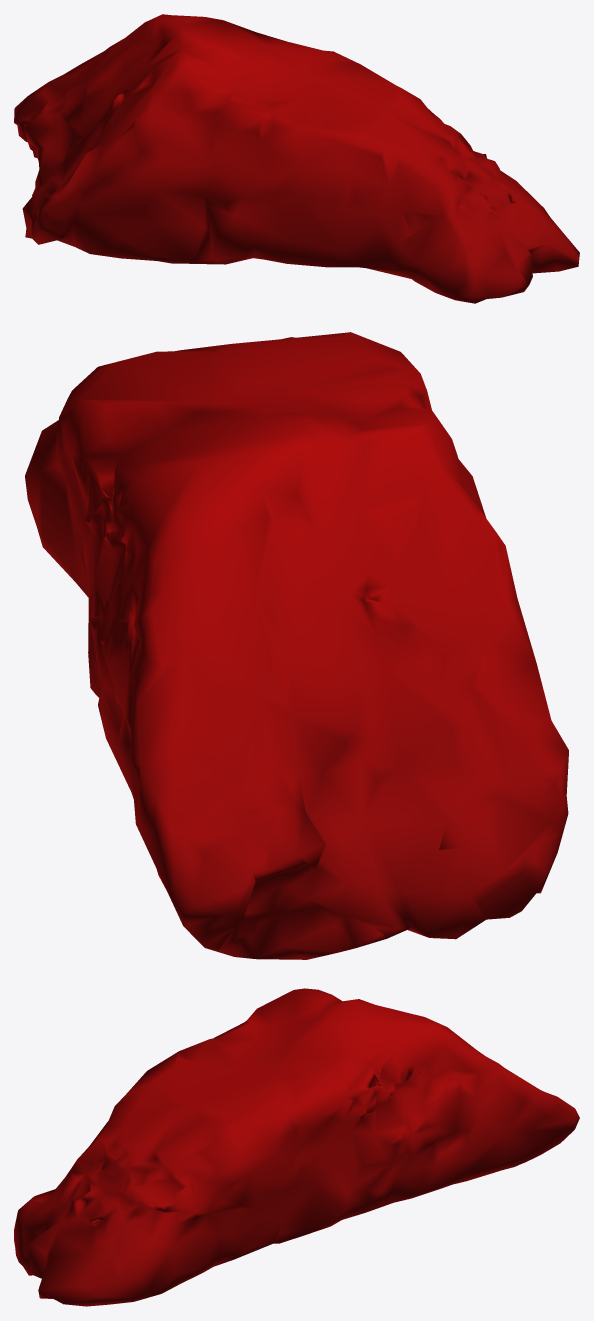
Rendered from mossrock_a_02.glb.
3 views of the same model, one above another, from view 1: azimuth 30°, elevation 25°; view 2: azimuth 150°, elevation 25°; view 3: azimuth 270°, elevation 25° (orthographic). The views are drawn at different scales.
Visible parts, largest first — view 1: LOD0; view 2: LOD0; view 3: LOD0.
Part boxes in pixels (bbox=[...]): LOD0: bbox=[14, 14, 579, 303]; LOD0: bbox=[25, 332, 568, 959]; LOD0: bbox=[14, 988, 579, 1306].
Size of what is drawn, in the model's own units: 2.65 by 1.26 by 3.25.
